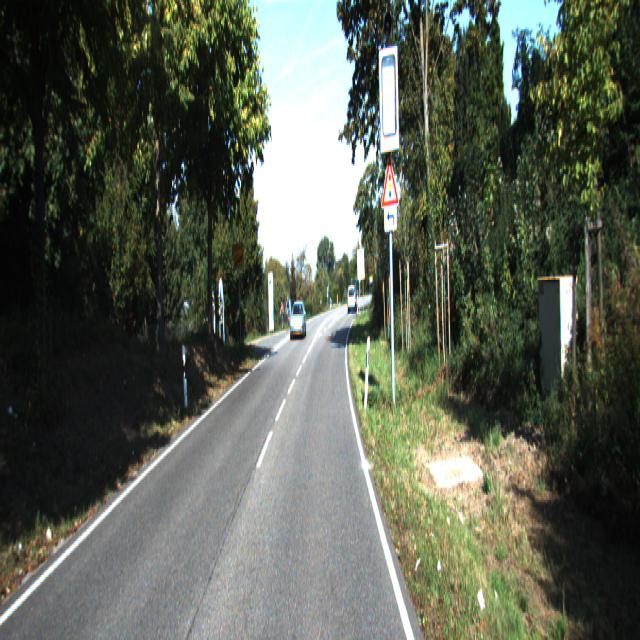Car: (290, 301, 306, 341)
